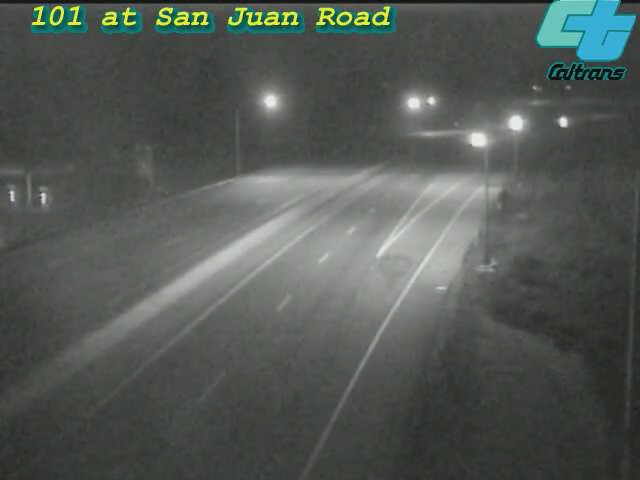vehicle: (538, 96, 588, 146), (489, 96, 539, 146), (453, 115, 503, 165)
